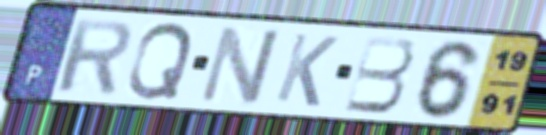6: (415, 37, 481, 121)
B: (341, 34, 417, 115)
K: (271, 30, 342, 110)
N: (194, 23, 285, 107)
Q: (124, 20, 197, 101)
R: (54, 15, 134, 96)
